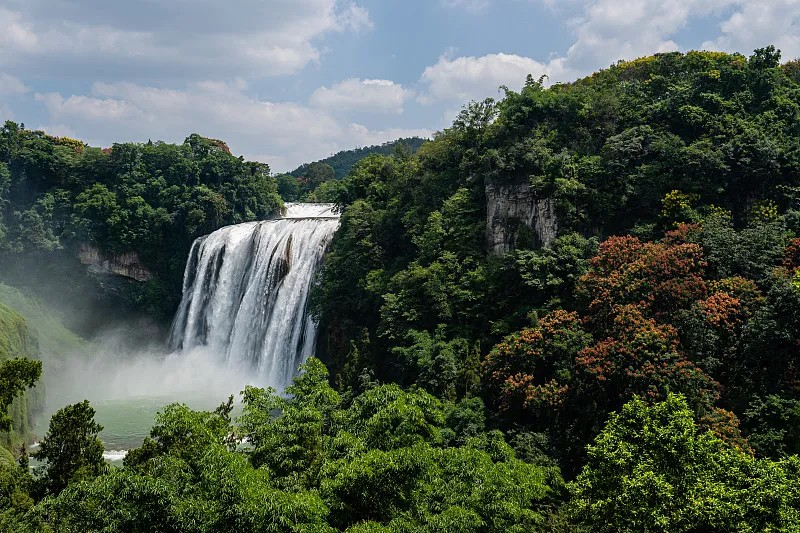Huangguoshu: (172, 204, 342, 380)
